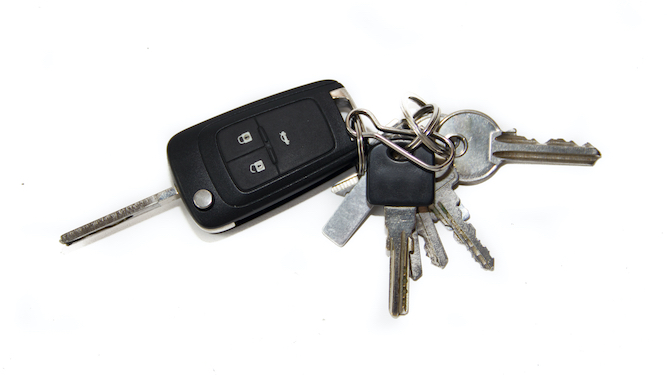key: (323, 107, 608, 321)
